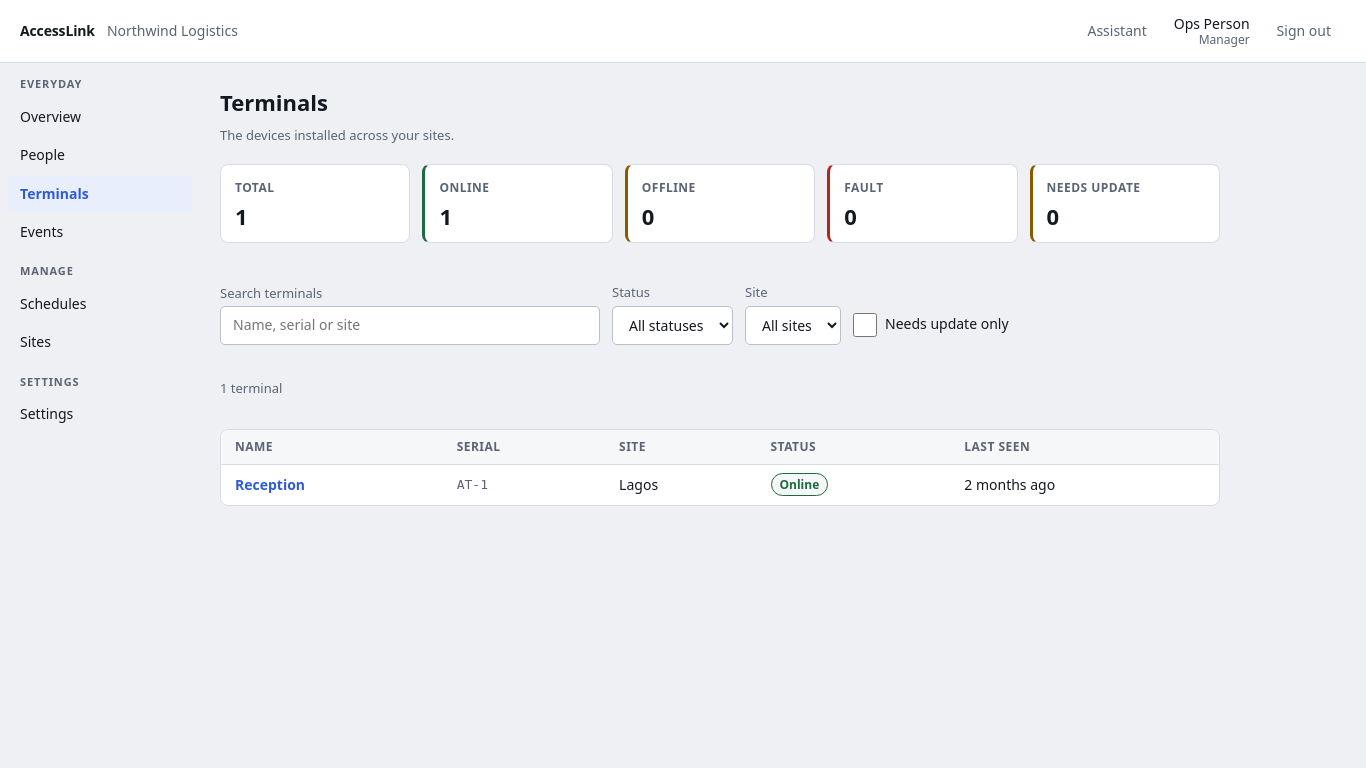
Scenario: the device-test card › says which terminal and where before approval, and refreshes the fleet after it
expect the link "Reception" is shown: met, box [235,473,305,497]
Click the button "Assistant".
click(1117, 31)  # box [1072,12,1162,50]
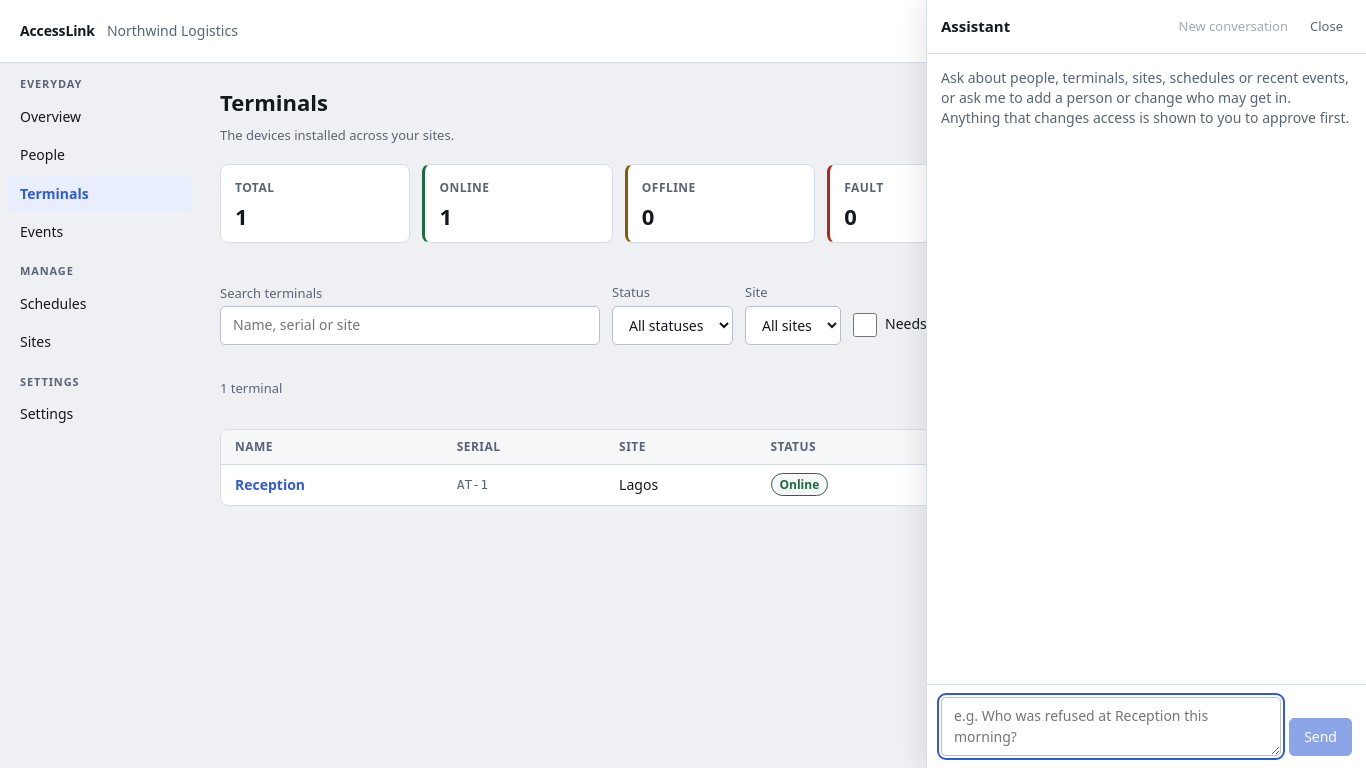
Type "make reception beep" into the text box named "Message the assistant".
click(1111, 727); type("make reception beep")  # box [941,697,1281,756]
Then press Enter
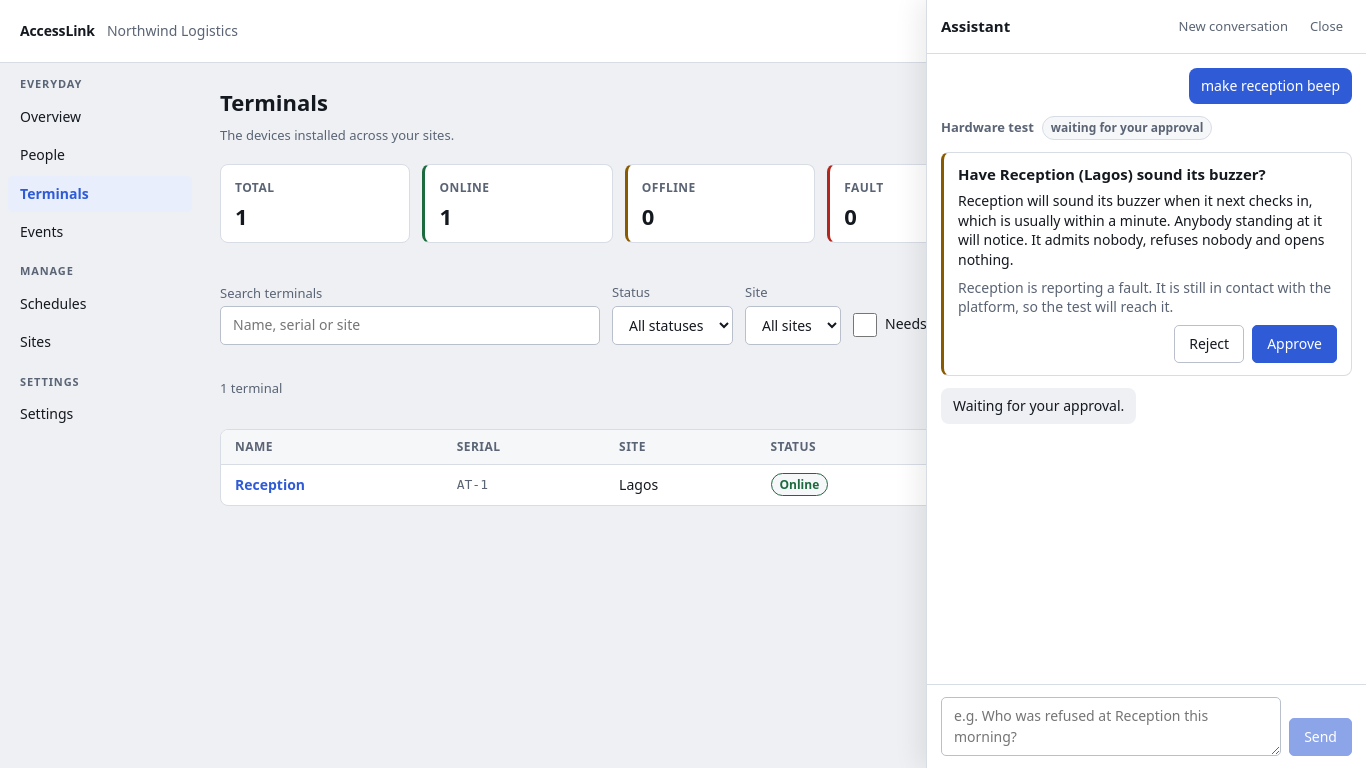
expect the text "Anybody standing at it will notice" is shown: met, box [958,191,1325,269]
expect the text "still in contact with the platform" is shown: met, box [958,278,1331,316]
expect the text "Hardware test" is shown: met, box [941,118,1034,137]
Click the button "Approve".
click(1295, 344)  # box [1252,325,1337,363]
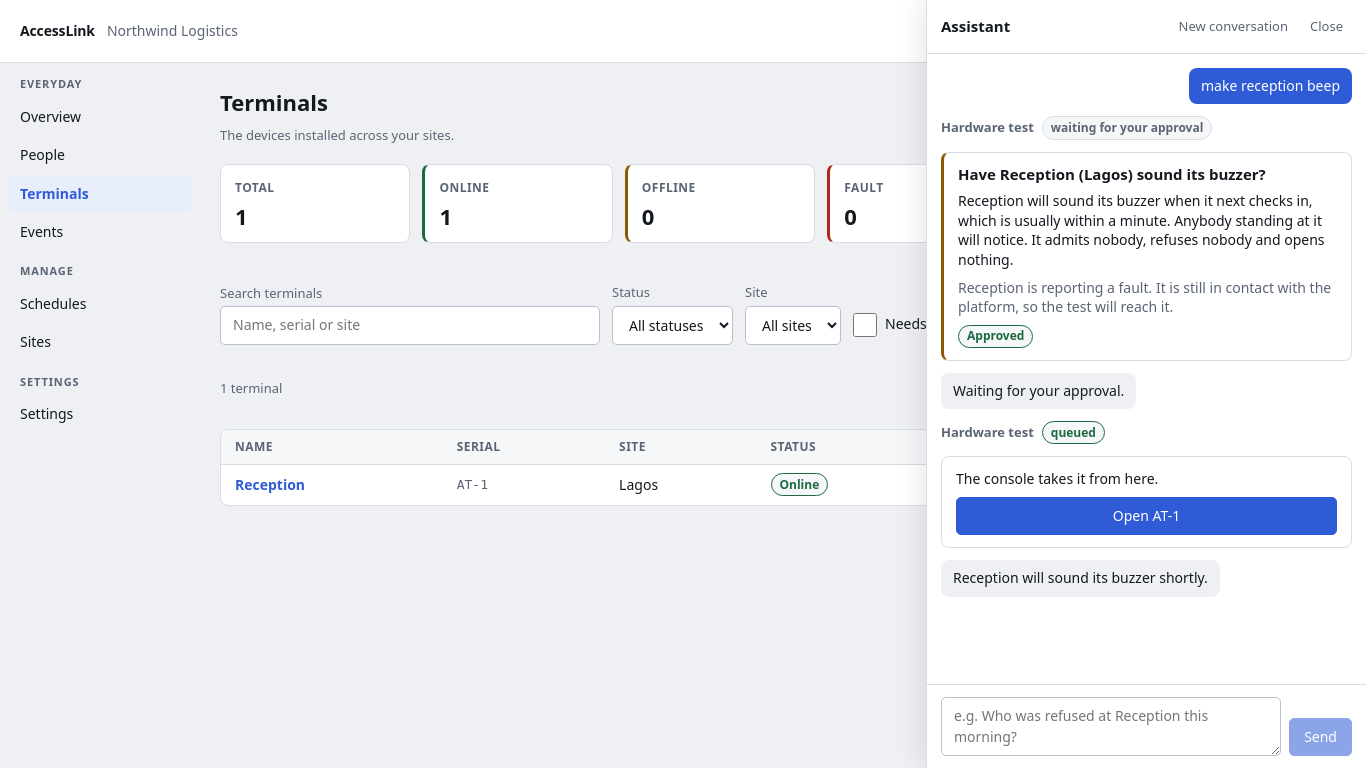
expect the text "Reception will sound its buzzer shortly." is shown: met, box [941,560,1220,596]
expect the text "Approved" is shown: met, box [958,325,1033,348]
